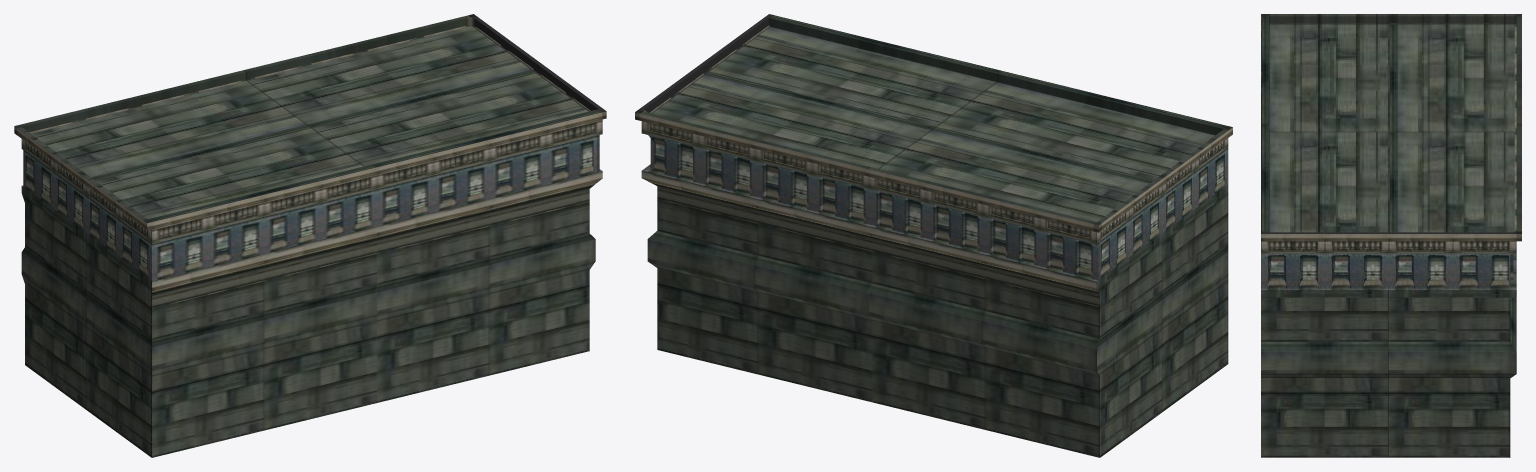
The model's file is brick_wall_level03.fbx.
3 renders of one model, left to right at view 1: azimuth 30°, elevation 25°; view 2: azimuth 150°, elevation 25°; view 3: azimuth 270°, elevation 25°, orthographic. The views are drawn at different scales.
Visible parts, largest first — view 1: Cube; view 2: Cube; view 3: Cube.
Boxes of the visible parts, x1,y1,x2,y2 form: Cube: (14, 14, 606, 457); Cube: (635, 14, 1232, 457); Cube: (1261, 14, 1521, 457).
Bounding box in the file's own units: 4076 × 2000 × 2041.
Materials: 1 (1 with a texture image).
